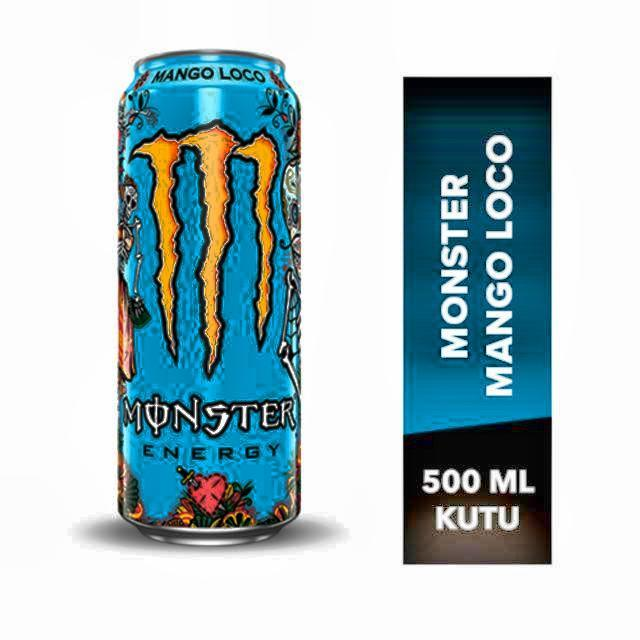metal: (116, 49, 304, 548)
